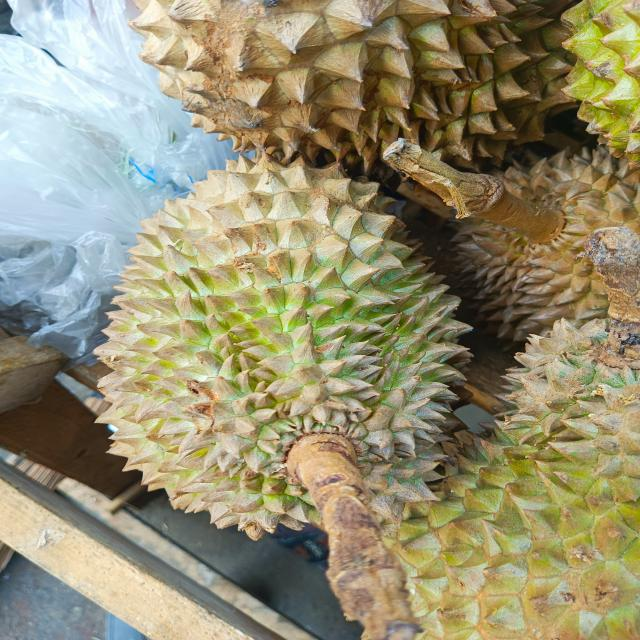mature: (92, 154, 474, 538)
